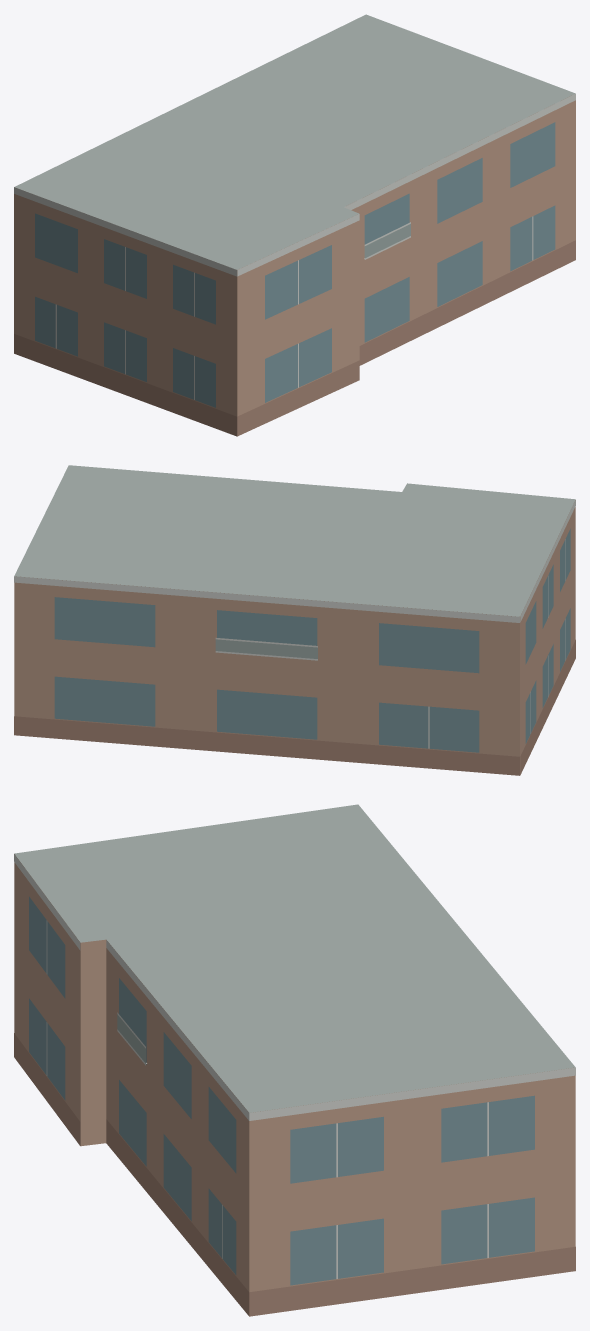
The model's file is survey-upis-32760538.glb.
3 views of the same model, one above another, from view 1: azimuth 30°, elevation 25°; view 2: azimuth 150°, elevation 25°; view 3: azimuth 270°, elevation 25° (orthographic). The views are drawn at different scales.
Visible parts, largest first — view 1: survey-upis-32760538.tmp; view 2: survey-upis-32760538.tmp; view 3: survey-upis-32760538.tmp.
Part boxes in pixels (left/top/right/bottom): survey-upis-32760538.tmp: left=14, top=14, right=575, bottom=436; survey-upis-32760538.tmp: left=14, top=465, right=575, bottom=775; survey-upis-32760538.tmp: left=14, top=804, right=575, bottom=1316.
Bounding box in the file's own units: 19.84 × 6.1 × 15.26.
